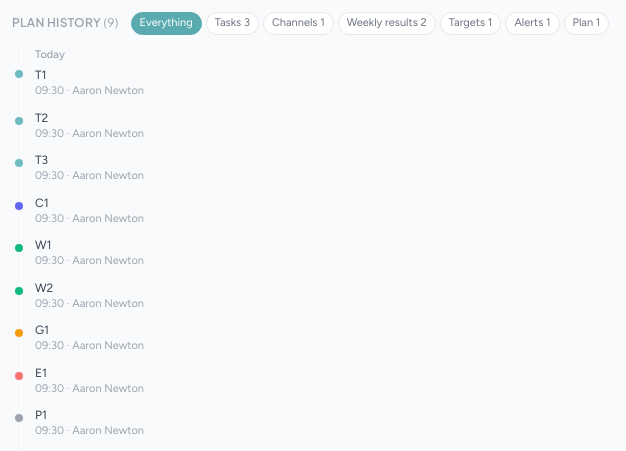
it: SourcingTimeline — filters › starts on Everything (aria-pressed) and switching narrows the list and moves the pressed state
Click the button "Weekly results 2": click(387, 23) [338, 12, 436, 34]
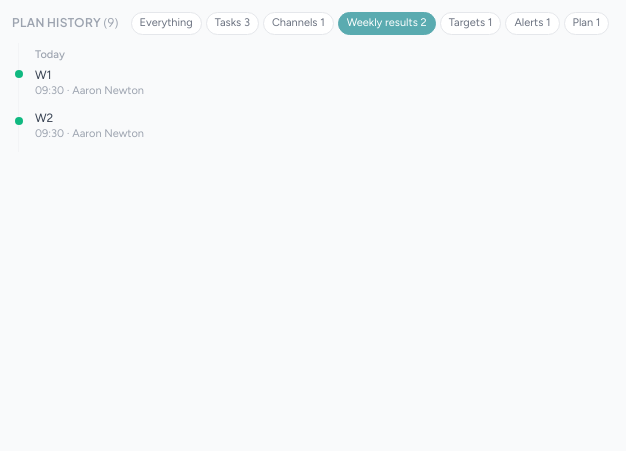
Expected: the elements with test id "timeline-entry" read "W1", "W2", in this order, [35, 68, 52, 82]; [35, 110, 53, 124]
Click the button "Alerts 1": click(532, 23) [505, 12, 560, 34]
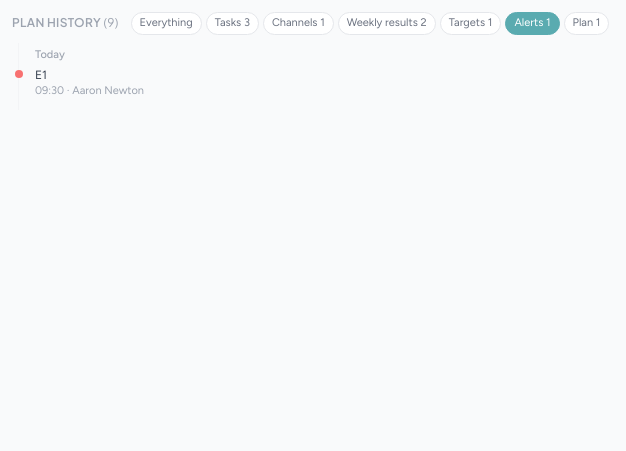
Expected: the elements with test id "timeline-entry" read "E1", in this order, [35, 68, 47, 82]
Click the button "Everything": click(166, 23) [131, 12, 202, 34]
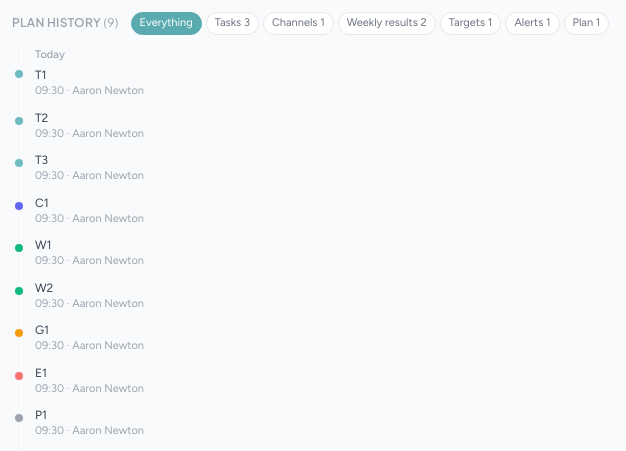
Expected: the number of elements with test id "timeline-entry" is 9
